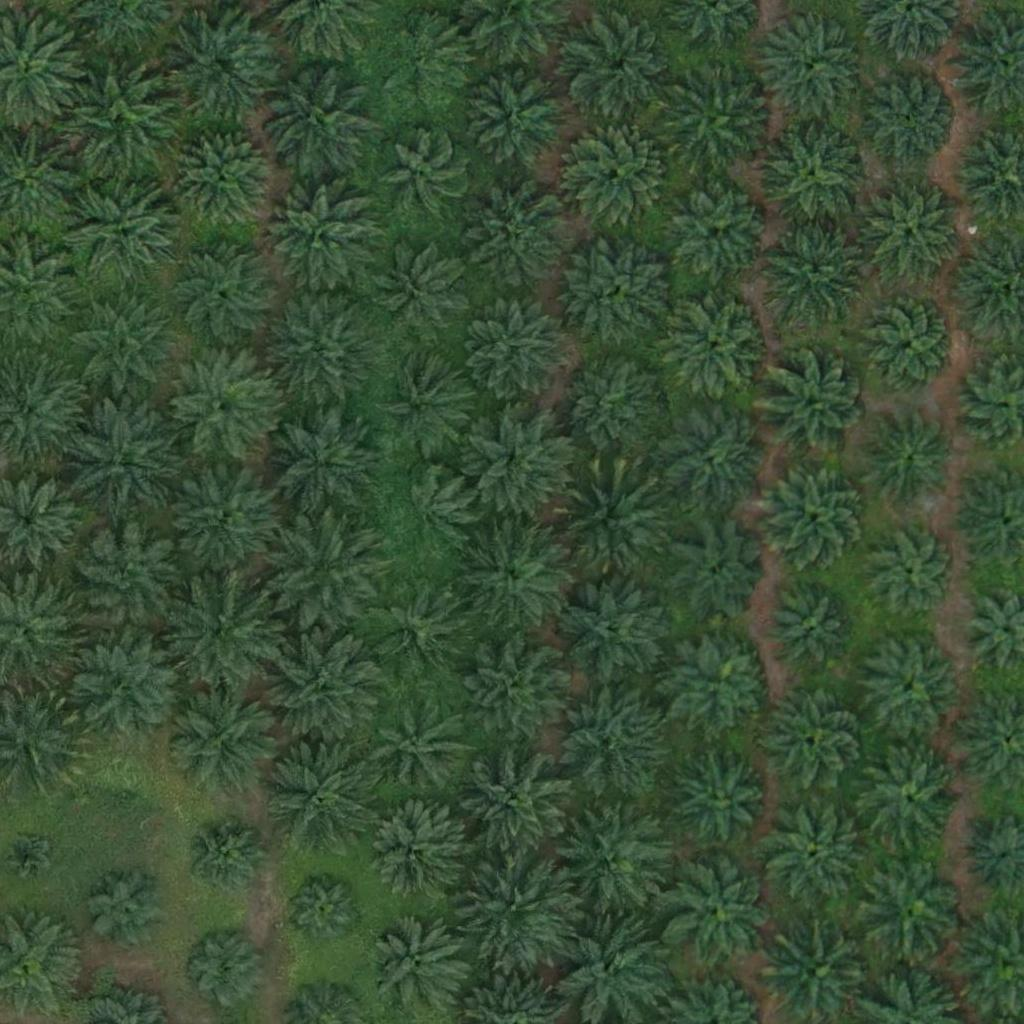Kelapa_Sawit: (663, 61, 776, 175), (755, 118, 868, 232), (763, 217, 876, 331), (263, 732, 376, 846), (166, 463, 279, 577), (163, 573, 276, 687), (64, 292, 177, 406), (66, 402, 179, 516), (259, 62, 372, 175), (263, 184, 376, 297), (461, 292, 574, 405), (757, 349, 870, 462), (759, 459, 872, 572), (558, 572, 671, 685), (554, 682, 667, 795), (463, 406, 576, 519), (454, 519, 567, 632), (460, 636, 573, 749), (168, 683, 281, 796), (70, 523, 183, 636), (462, 854, 575, 967), (559, 802, 672, 915), (753, 11, 865, 125), (460, 747, 572, 861), (267, 513, 379, 627), (269, 630, 381, 744), (60, 64, 172, 177), (68, 178, 180, 291), (163, 11, 275, 124), (167, 235, 279, 348), (266, 292, 378, 405), (462, 63, 574, 176), (566, 12, 678, 125), (565, 236, 677, 349), (556, 352, 668, 465), (555, 467, 667, 580), (265, 407, 377, 520), (165, 350, 277, 463), (75, 630, 187, 743), (663, 856, 775, 969), (758, 795, 870, 908), (172, 126, 272, 227), (470, 187, 570, 288), (568, 123, 668, 224), (670, 180, 770, 281), (859, 408, 959, 509), (860, 636, 960, 737), (860, 753, 960, 854), (764, 690, 864, 791), (663, 295, 763, 396), (660, 407, 760, 508), (669, 523, 769, 624), (670, 633, 770, 734), (667, 747, 767, 848), (375, 353, 475, 454), (363, 804, 463, 905), (369, 916, 469, 1017), (860, 68, 960, 168), (862, 185, 962, 285), (859, 295, 959, 395), (367, 580, 467, 680), (371, 699, 471, 799), (861, 857, 961, 957), (768, 585, 856, 673), (384, 470, 472, 558), (383, 16, 470, 104), (378, 130, 465, 218), (379, 246, 466, 334), (868, 528, 955, 616), (84, 866, 171, 954), (183, 816, 270, 904), (180, 925, 267, 1013), (285, 872, 360, 947), (2, 830, 52, 881), (99, 767, 149, 817)
